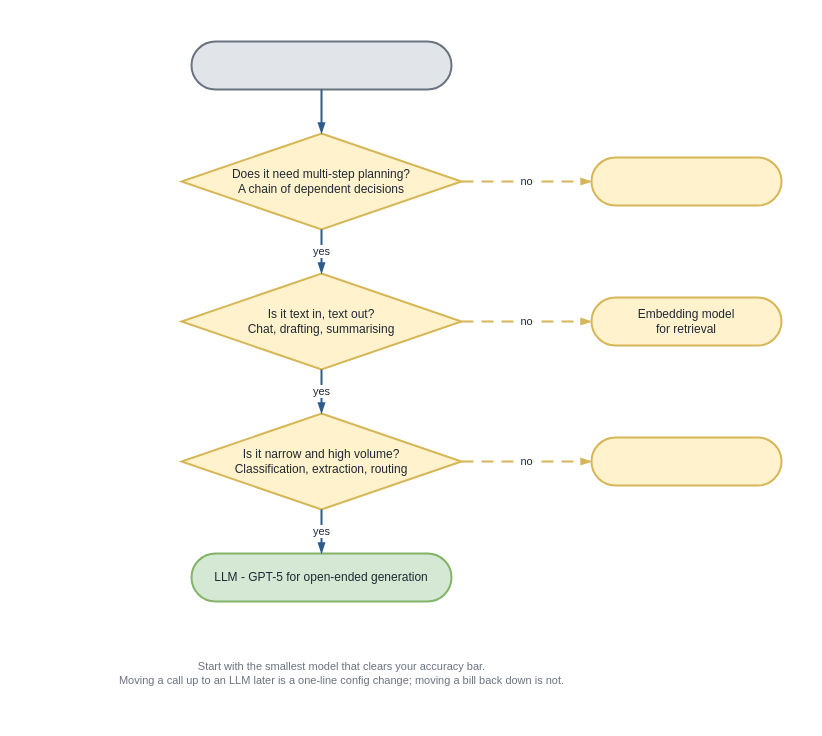
Some shapes in this 822 by 736 pixel diagram are drawn without their labels. Here are the shapes that lost their labels. From the top down, the centre of each, then its label:
At point 321,65: "A task arrives".
At point 686,181: "Reasoning model".
At point 686,461: "SLM - Phi-4, Mistral Small".
